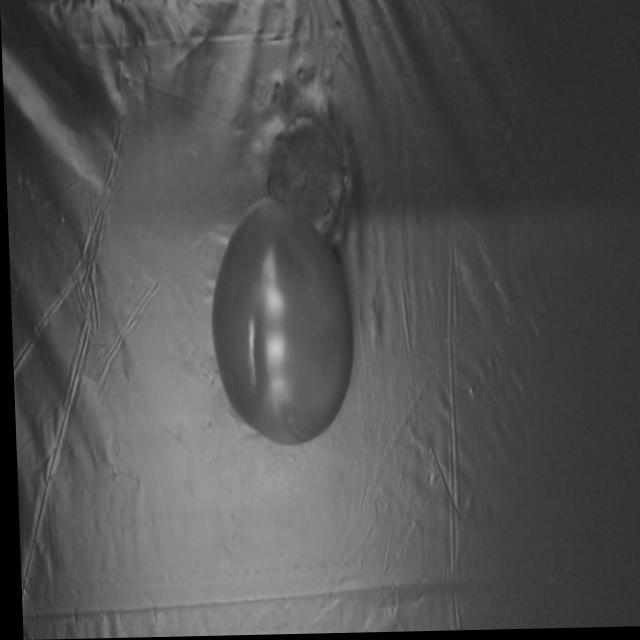kirmizi: (198, 177, 365, 456)
